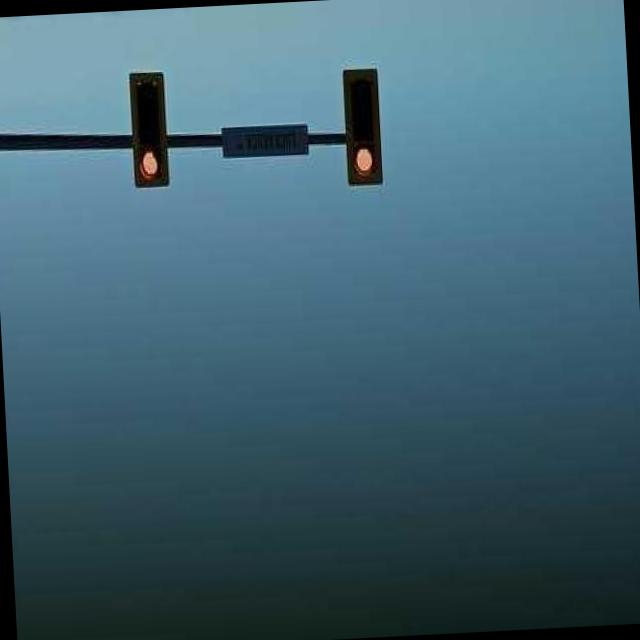red-lights: (347, 143, 379, 188), (136, 142, 162, 180)
